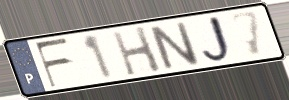1: (82, 33, 115, 81)
7: (229, 9, 265, 59)
F: (33, 35, 74, 89)
H: (109, 24, 165, 78)
J: (199, 14, 237, 65)
N: (145, 20, 204, 72)
